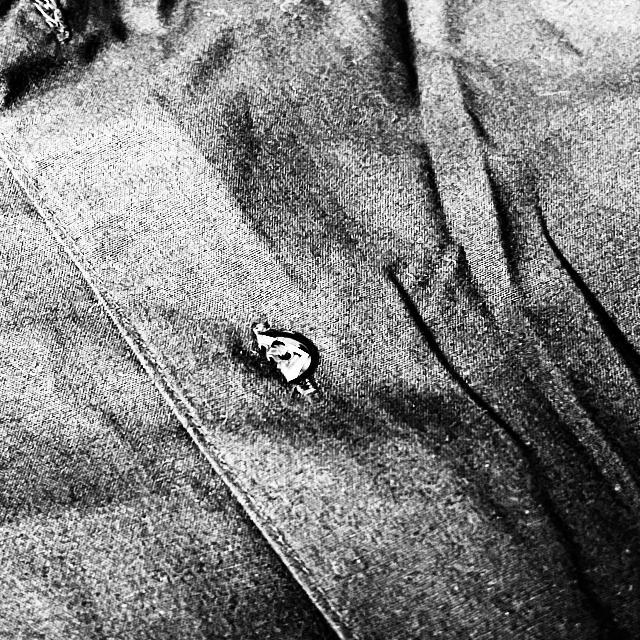Broken_button: (230, 314, 336, 398)
